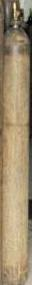cylinder: (1, 1, 32, 285)
